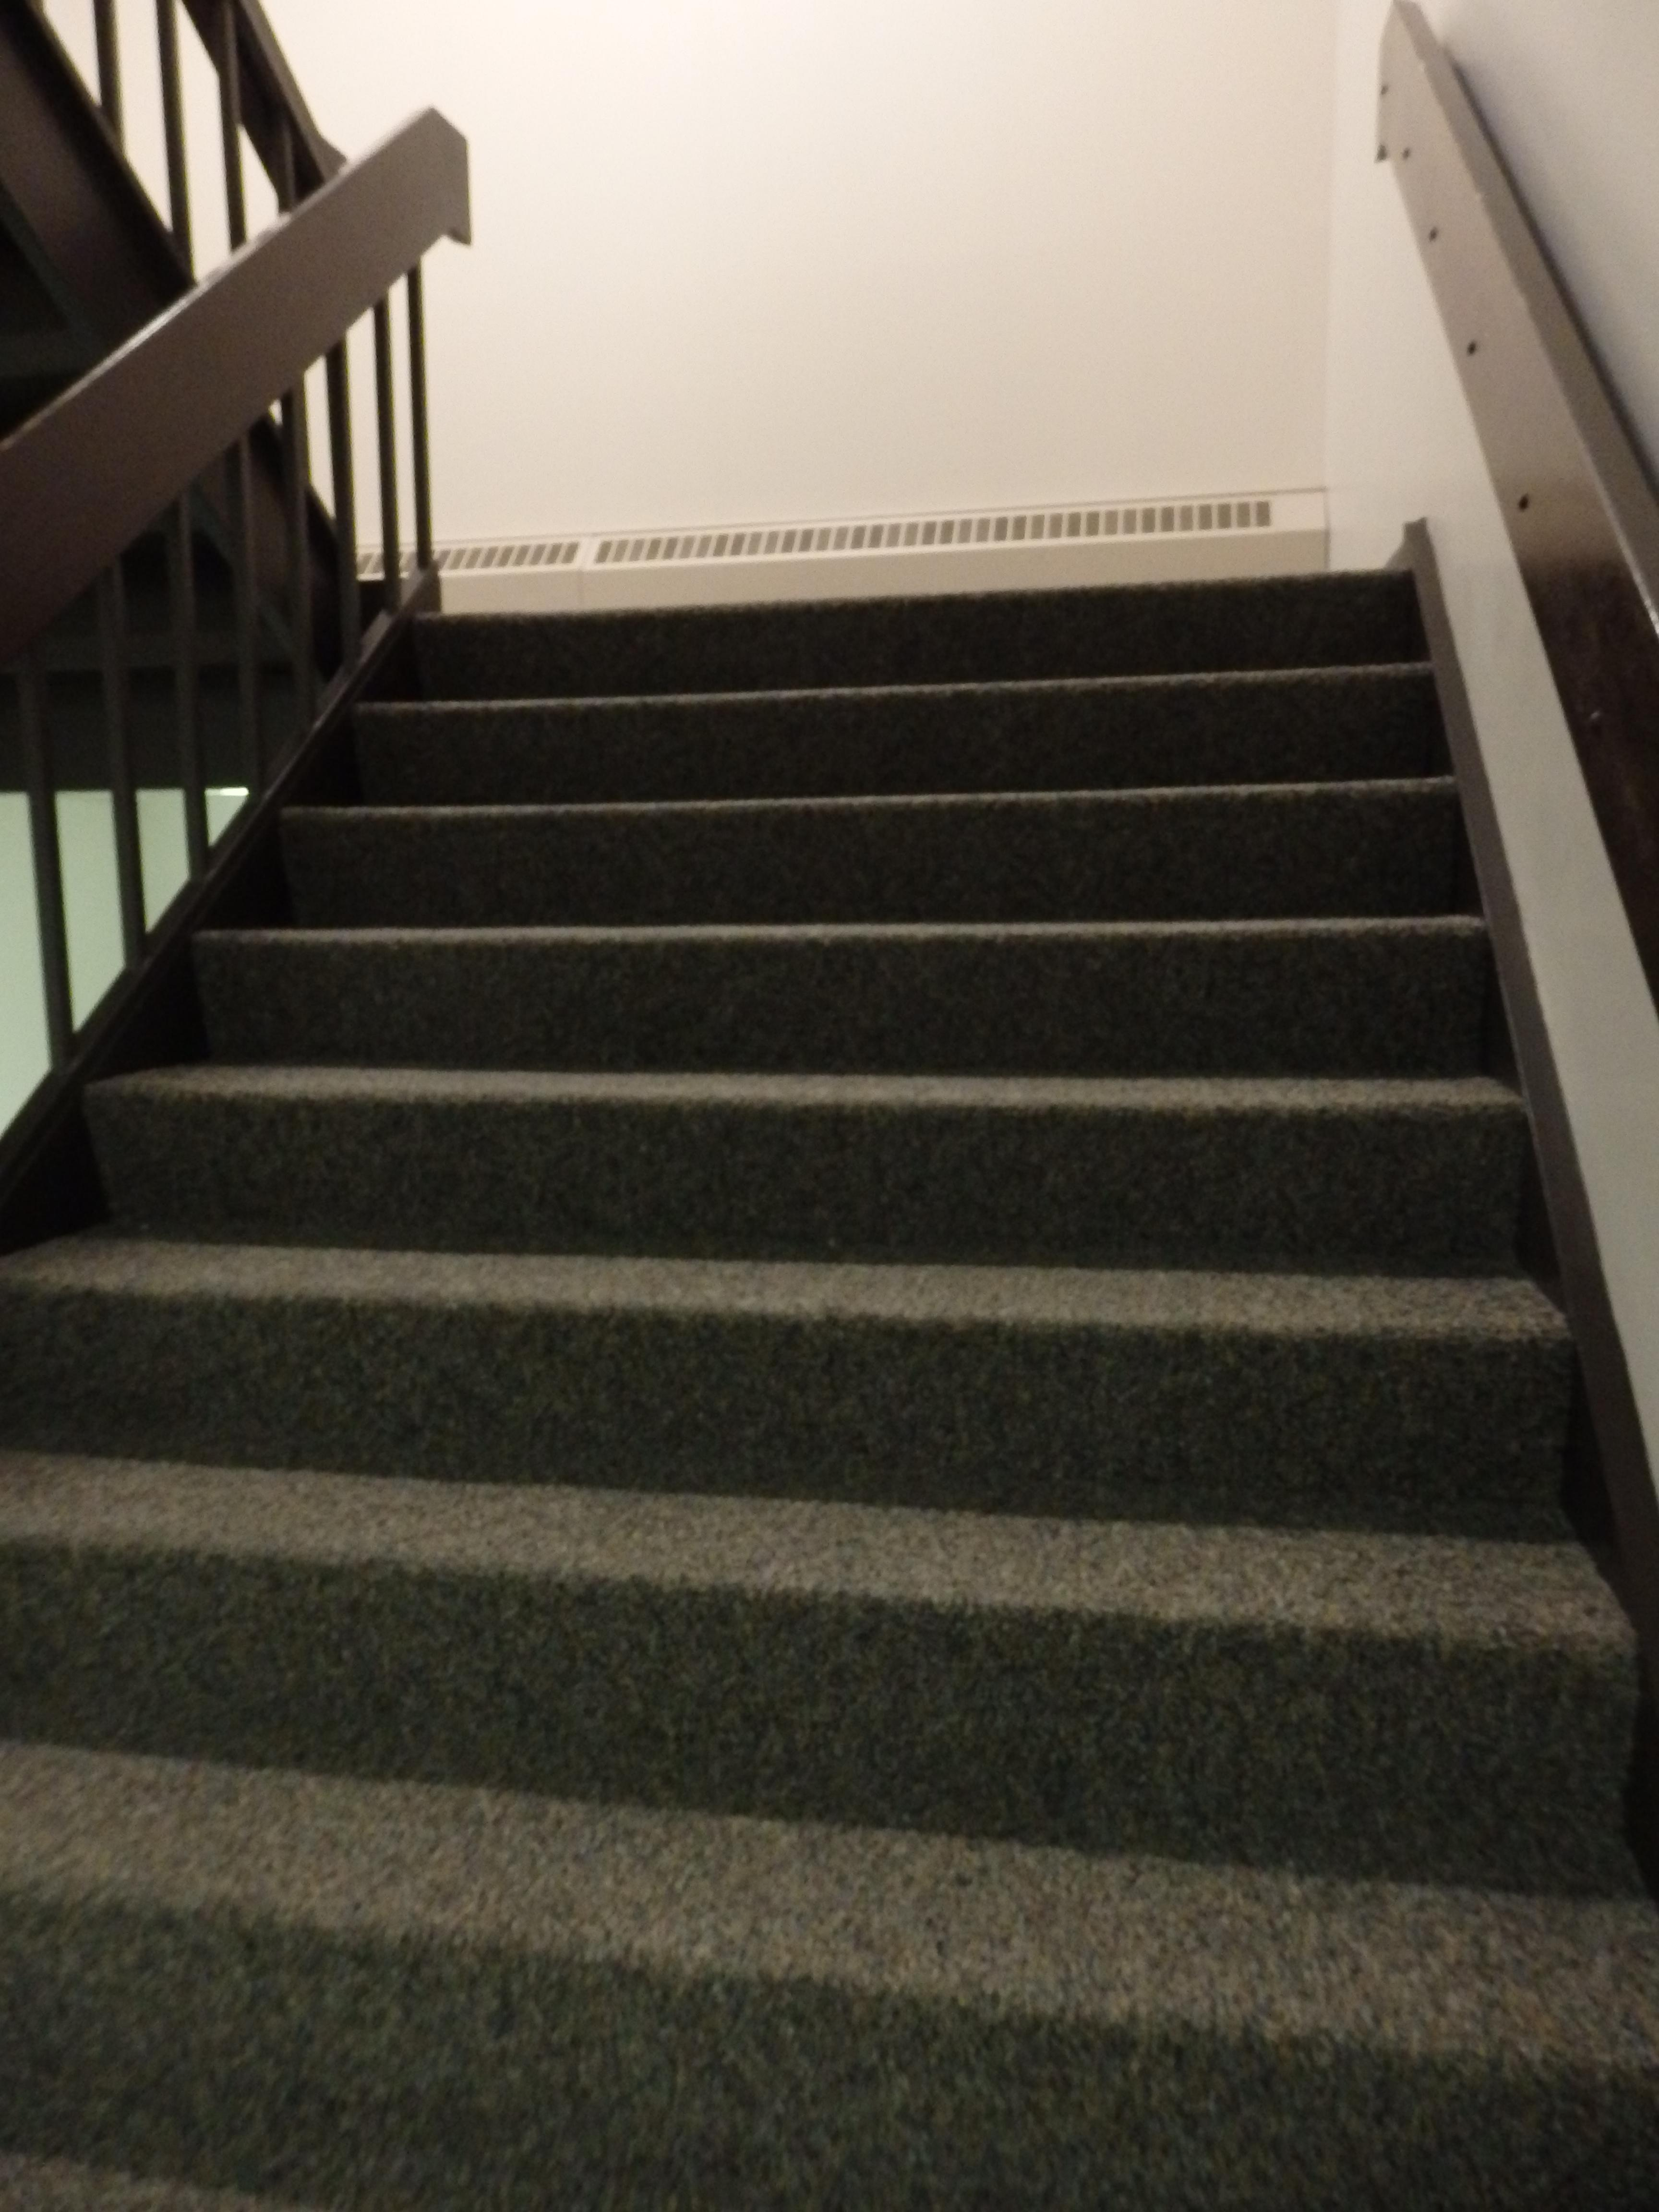stairs_up: (61, 547, 1401, 2048)
